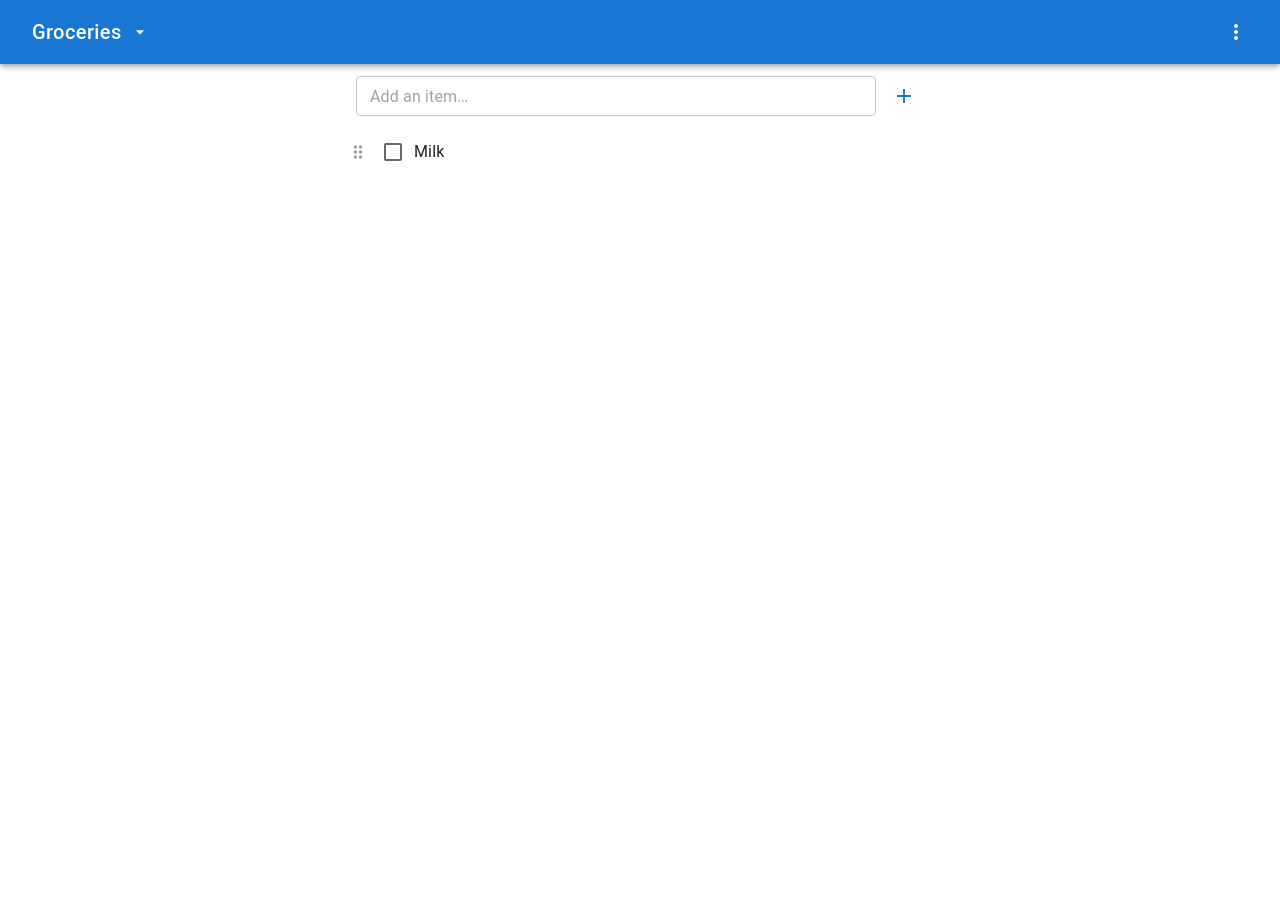
multiple lists › renames the current list
This screenshot has width=1280, height=900.
Expected: the text "Milk" is shown, [414, 142, 444, 161]
Click the button named "More options" at (1236, 32), box [1216, 12, 1256, 52]
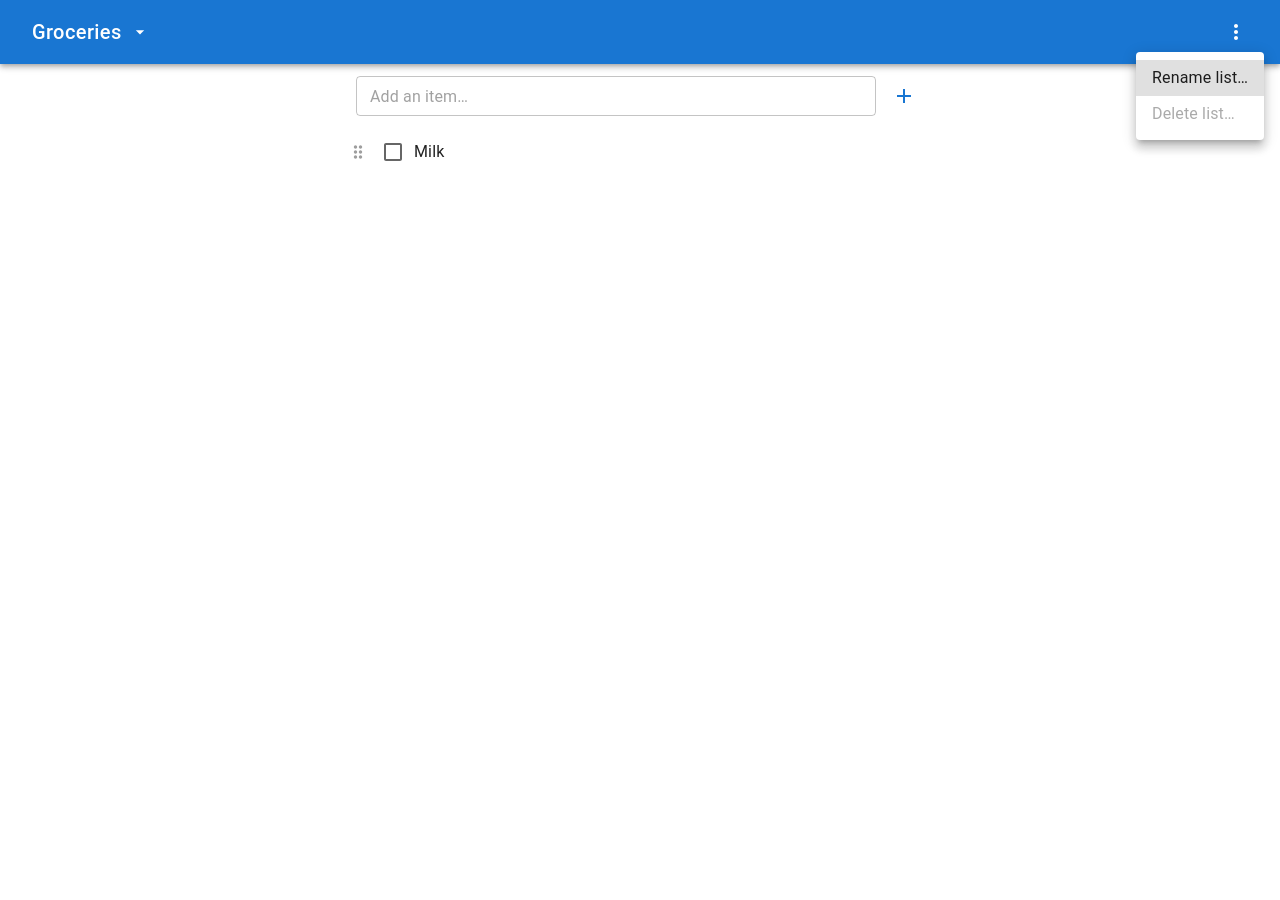
Click the menu item "Rename list…" at (1200, 78), box [1136, 60, 1264, 96]
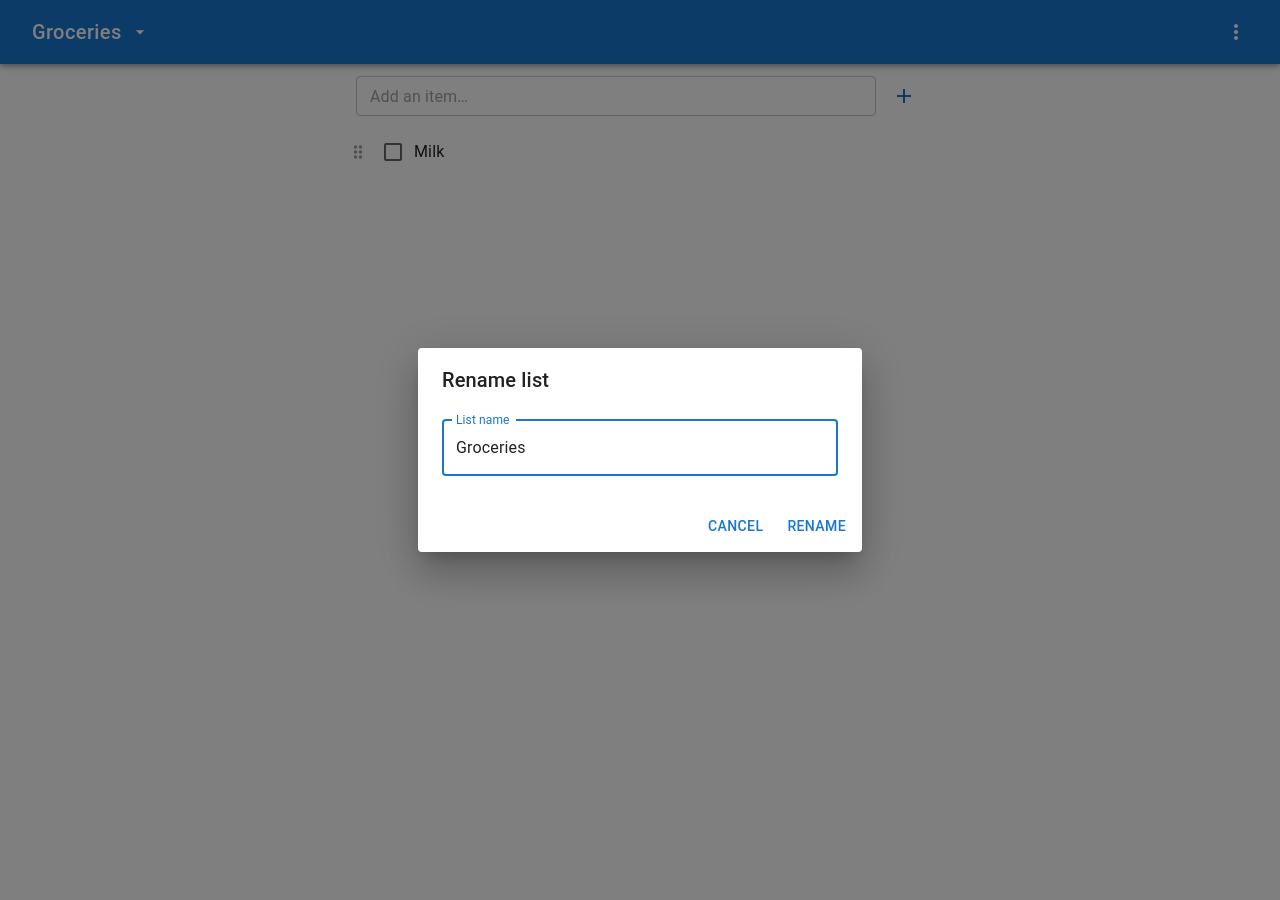
Replace the text in the field labelled "List name" with "Weekly Shop" at (640, 448), box [442, 420, 838, 476]
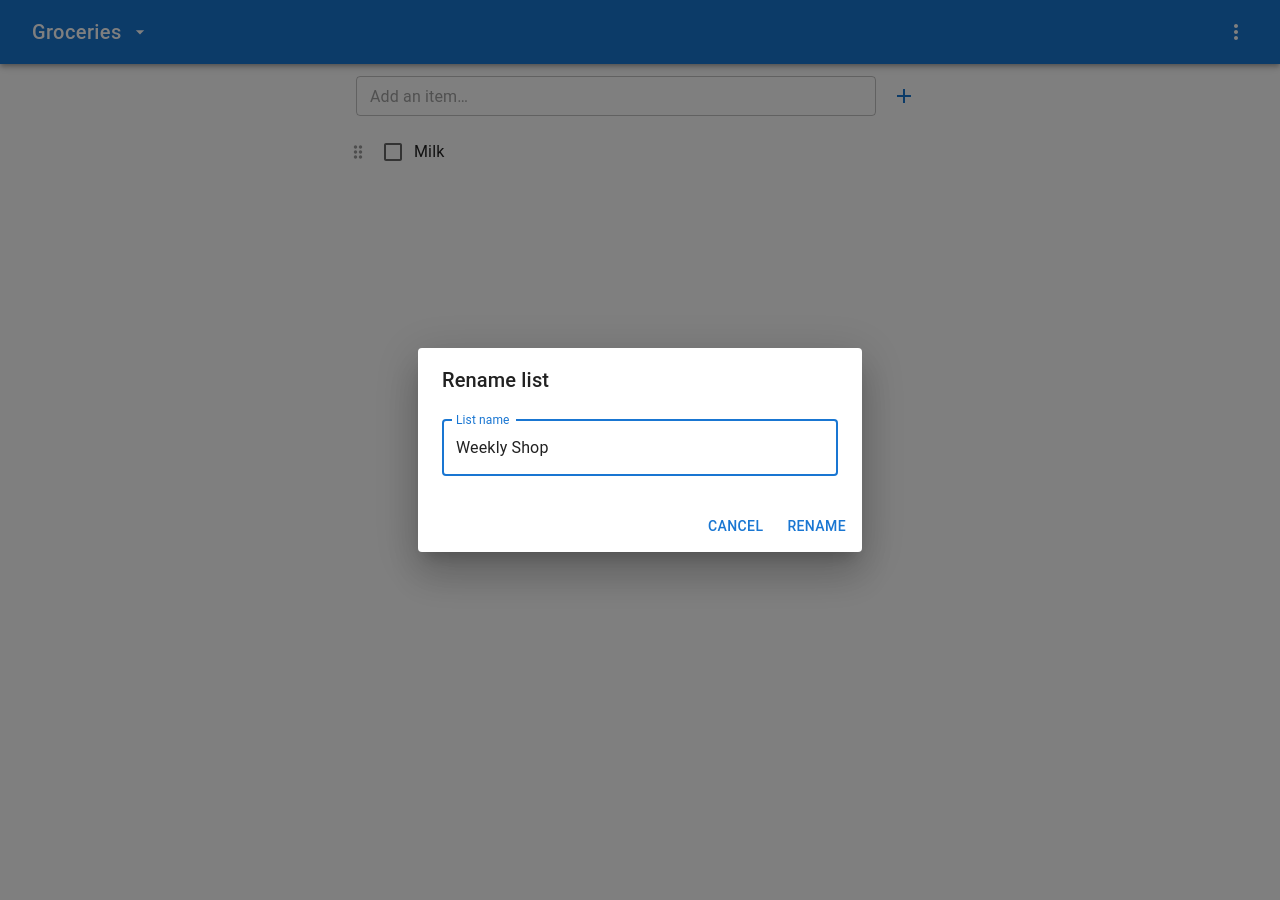
Click the button "Rename" at (817, 526), box [779, 508, 854, 544]
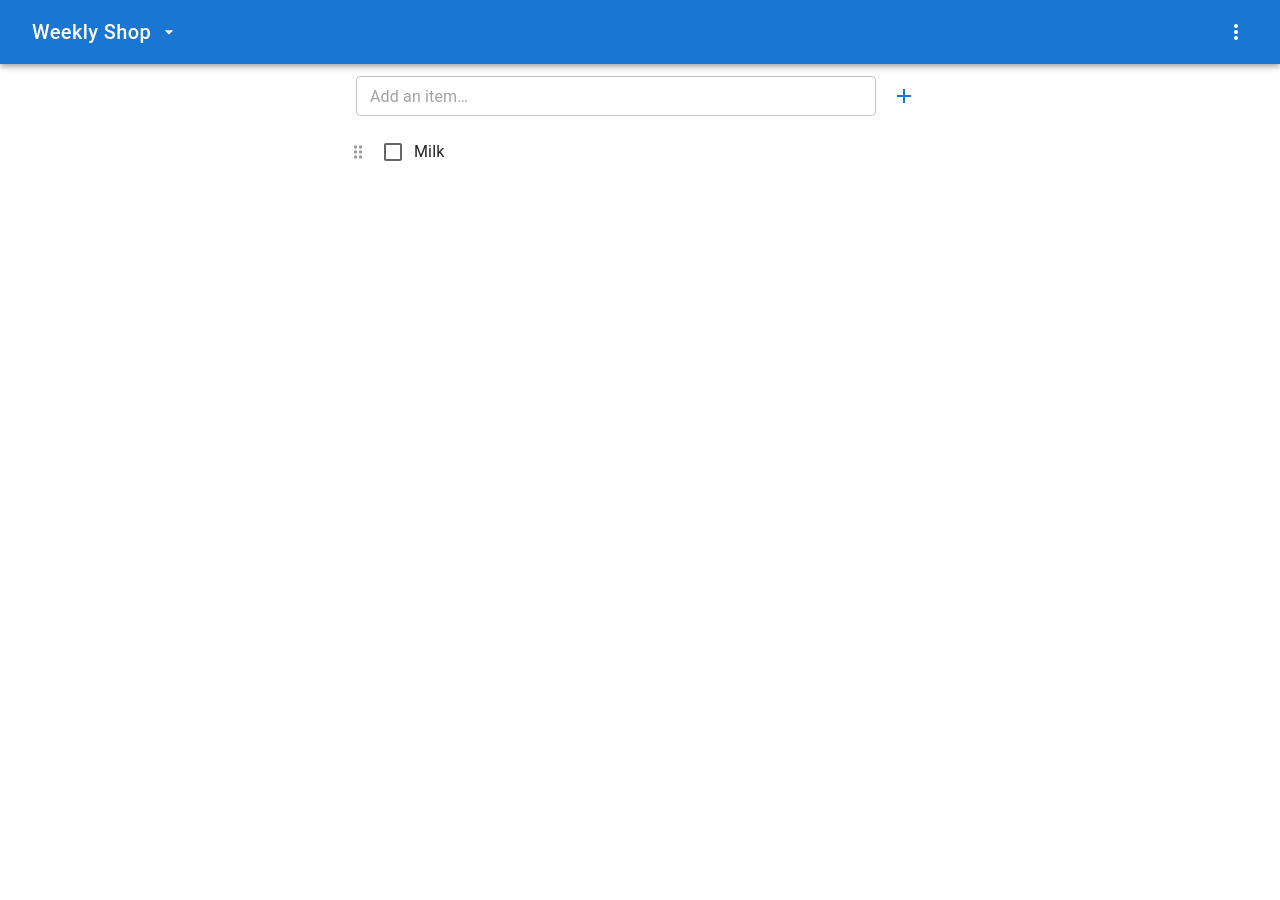
Expected: the button "Weekly Shop" is shown, [24, 8, 1216, 56]
